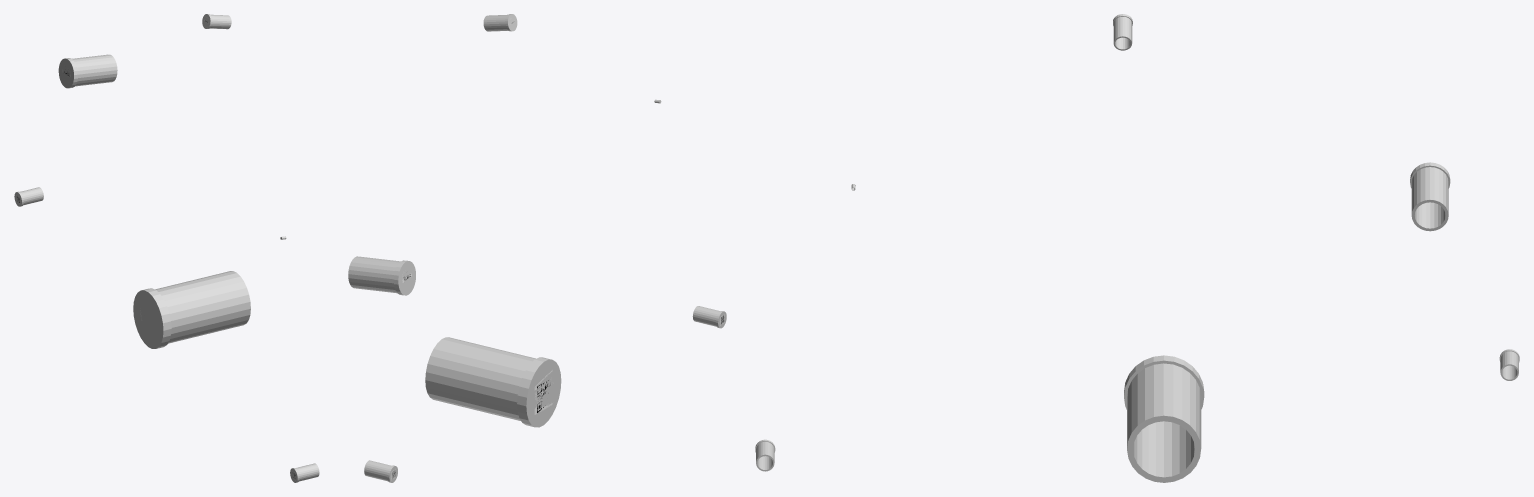
File: O1_paipu_tunneru.dae
The picture shows the model from 3 angles, left to right: view 1: azimuth 30°, elevation 25°; view 2: azimuth 150°, elevation 25°; view 3: azimuth 270°, elevation 25°; orthographic projection. The views are drawn at different scales.
Visible parts, largest first — view 1: Group5, Group3, Group2, Group7, Group4; view 2: Group5, Group3, Group2, Group4, Group7, Group1; view 3: Group5, Group3.
Part boxes in pixels (x1,y1,x2,y2): Group5: (133,271,250,348); Group3: (58,54,117,88); Group2: (14,187,43,206); Group7: (290,463,319,482); Group4: (202,14,231,29); Group5: (425,337,561,427); Group3: (348,256,415,295); Group2: (364,460,397,482); Group4: (483,14,517,31); Group7: (692,306,726,328); Group1: (391,21,724,480); Group5: (1124,355,1204,482); Group3: (1410,162,1450,231).
Size of the model in its own units: 0.4623 by 2.47 by 1.7.
Materials: 2 (1 with a texture image).
